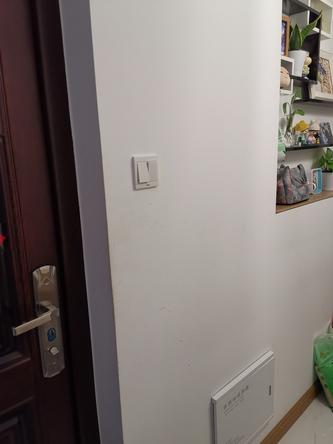switch: (139, 161, 152, 187), (155, 161, 167, 184)
